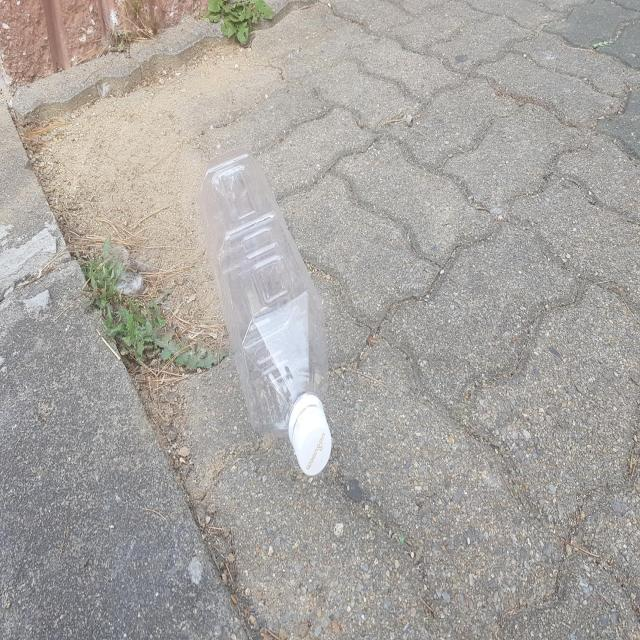plastic: (200, 151, 332, 476)
